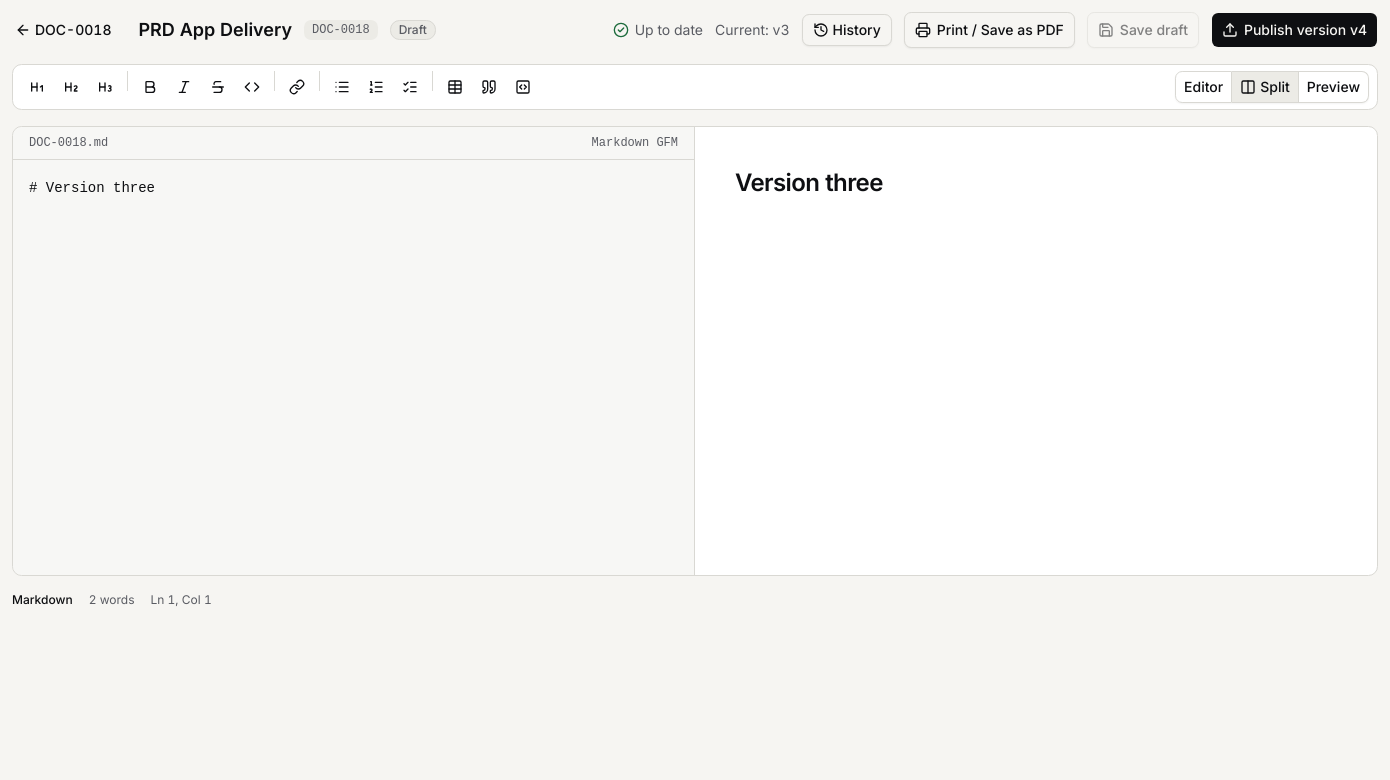
Test: DocumentEditor save › saves the latest text as the draft only when Save draft is pressed
The image size is (1390, 780).
expect the button "Save draft" is disabled: met, box [1087,12,1199,48]
Replace the text in the text box named "Markdown source" with "# Changed" at (354, 368), box [13,160,694,575]
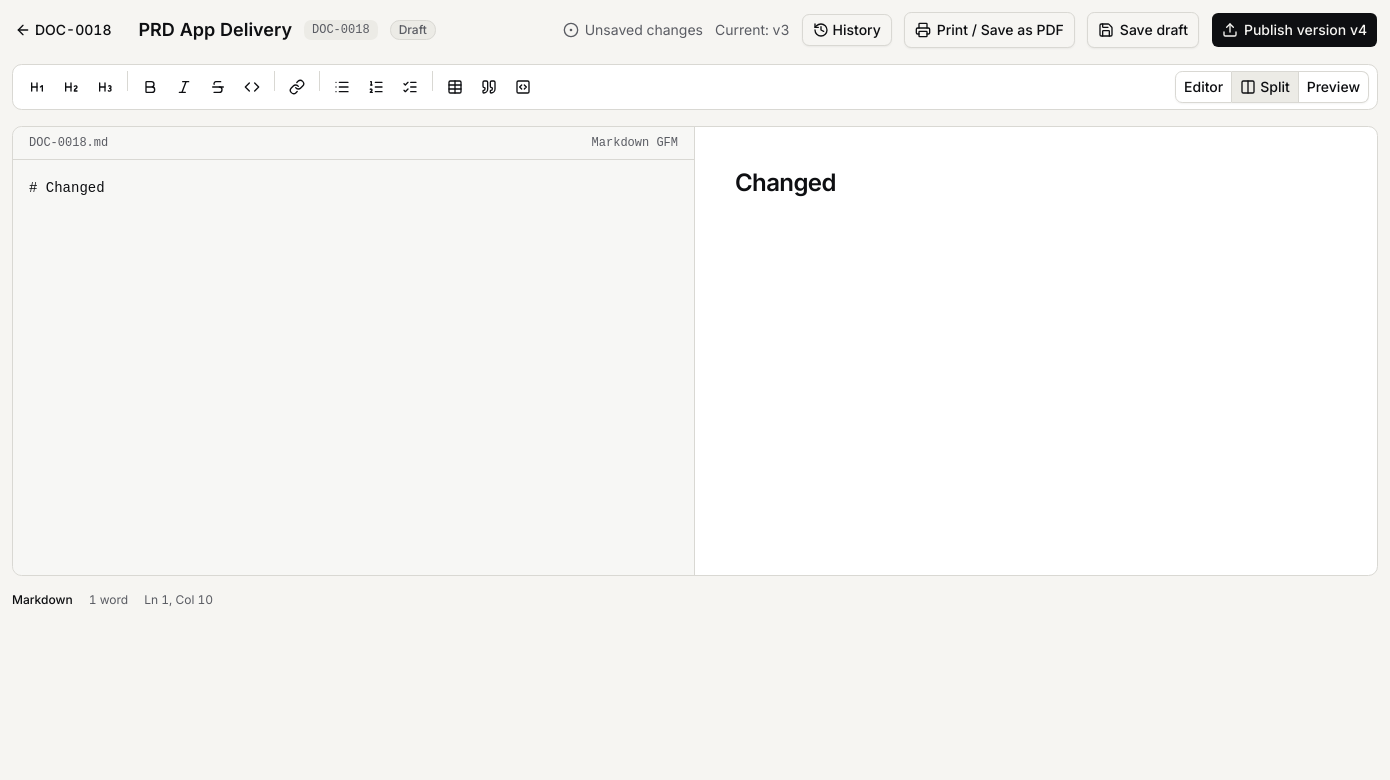
Click the button "Save draft" at (1143, 30), box [1087,12,1199,48]
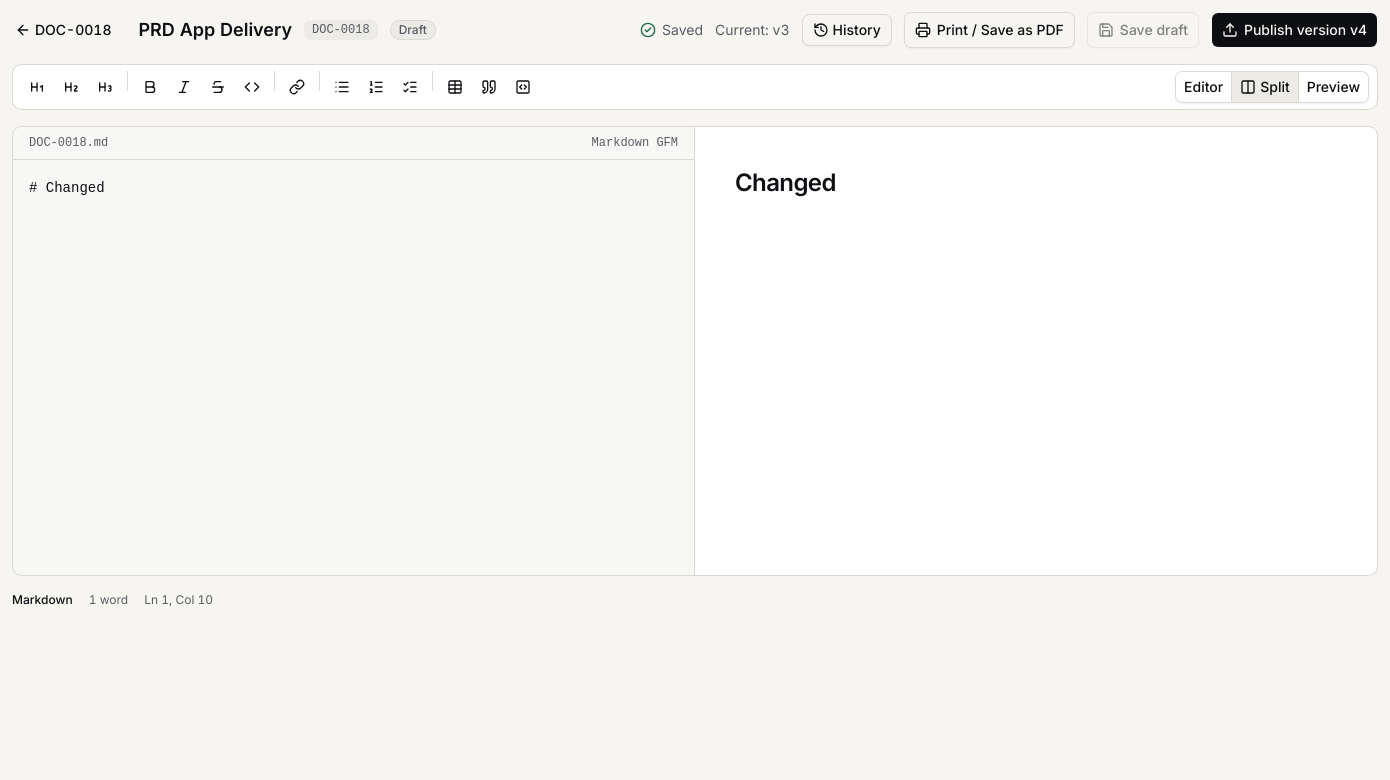
expect the message reads "Saved": met, box [662,21,703,38]
expect the button "Save draft" is disabled: met, box [1087,12,1199,48]
